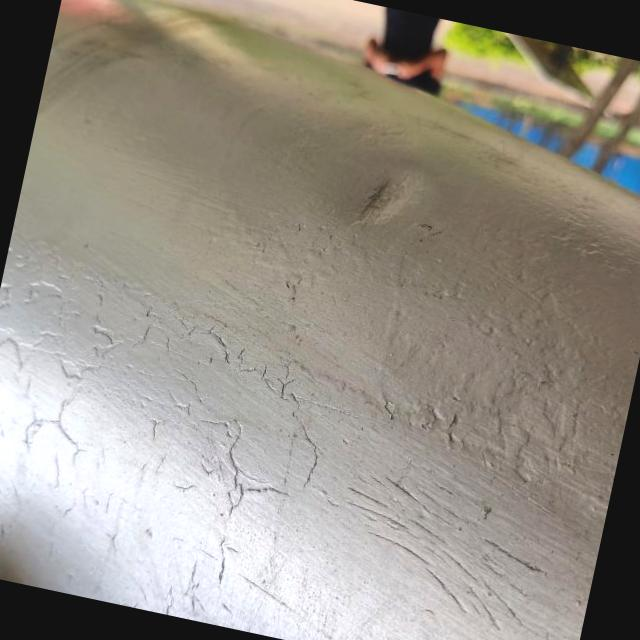dent: (319, 133, 455, 267)
